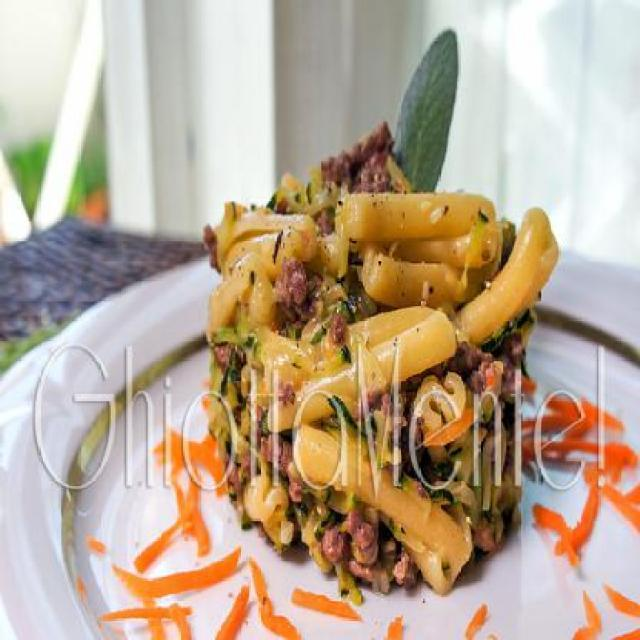Pasta al ragu: (174, 30, 588, 579)
